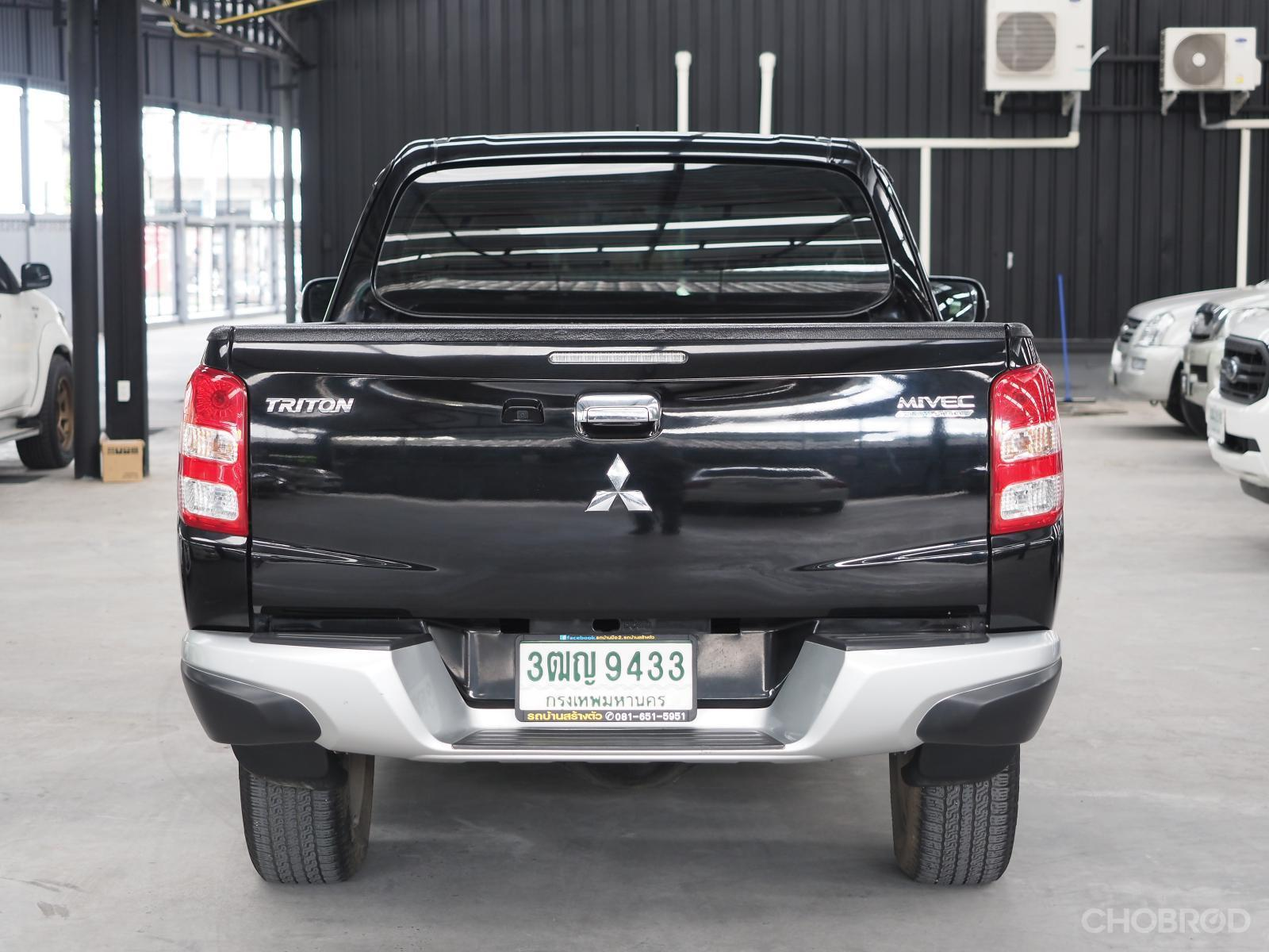license-plate: (512, 631, 702, 726), (1204, 405, 1234, 445)
